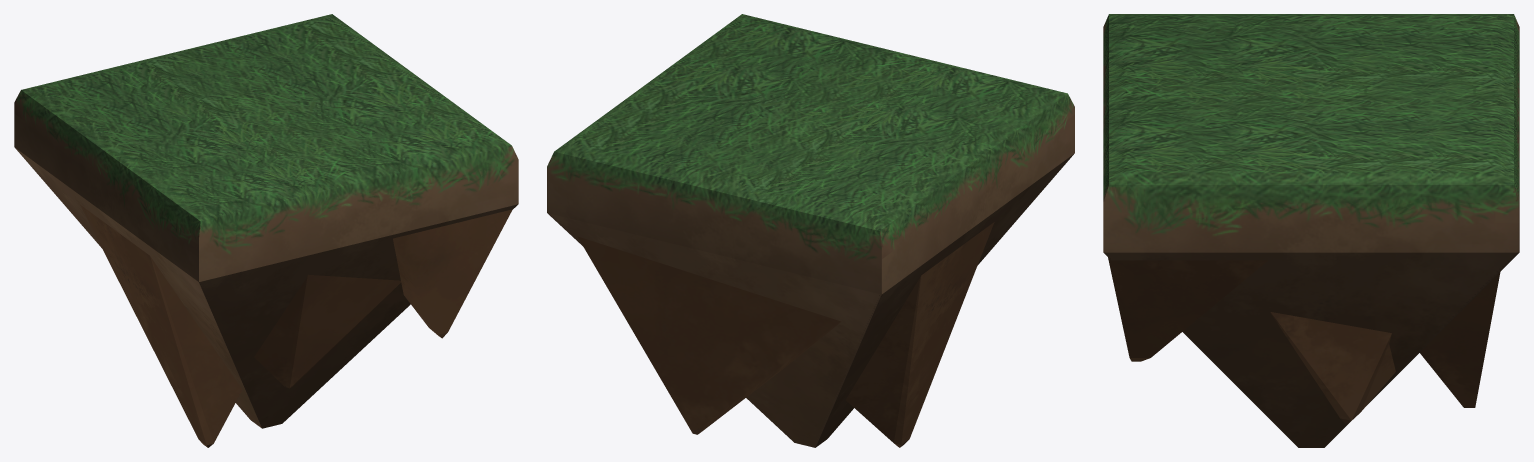
Rendered from Islsnd.FBX.
The picture shows the model from 3 angles, left to right: view 1: azimuth 30°, elevation 25°; view 2: azimuth 150°, elevation 25°; view 3: azimuth 270°, elevation 25°; orthographic projection. The views are drawn at different scales.
Visible parts, largest first — view 1: Box001; view 2: Box001; view 3: Box001.
Boxes of the visible parts, left/top/right/bottom form: Box001: left=14, top=14, right=518, bottom=447; Box001: left=547, top=14, right=1074, bottom=447; Box001: left=1103, top=14, right=1519, bottom=447.
Bounding box in the file's own units: 462 × 427 × 462.
1 material, 1 textured.
